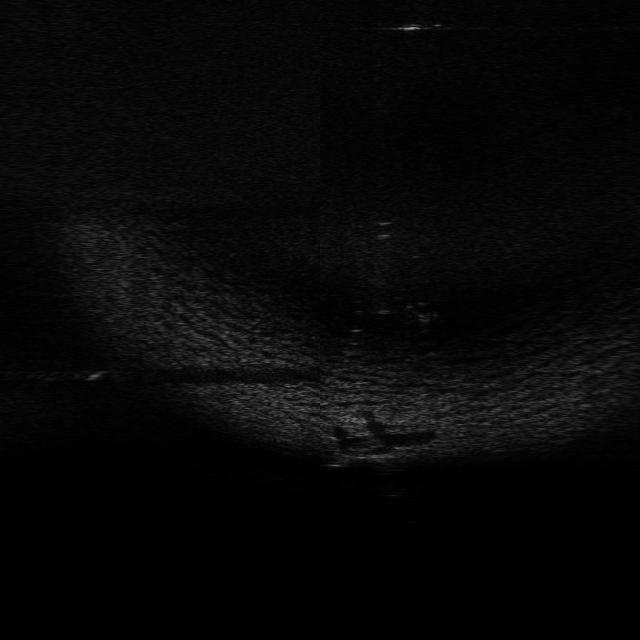plane: (327, 442, 394, 468)
